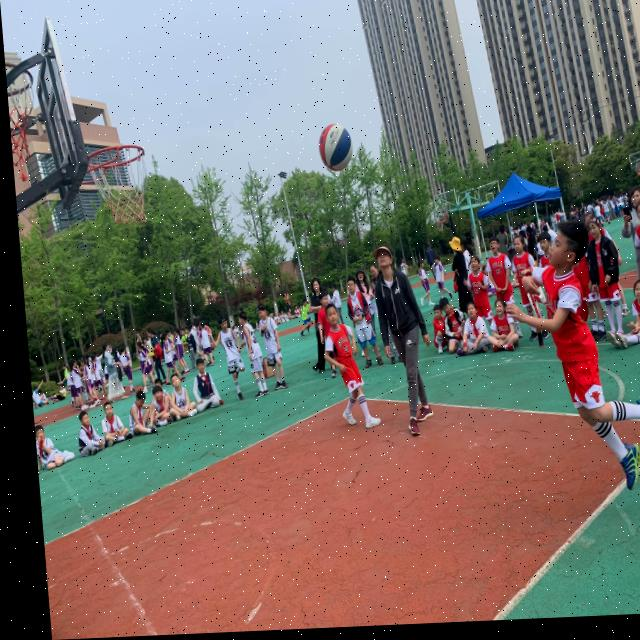basketball: (316, 123, 355, 173)
hoop: (90, 142, 152, 227)
